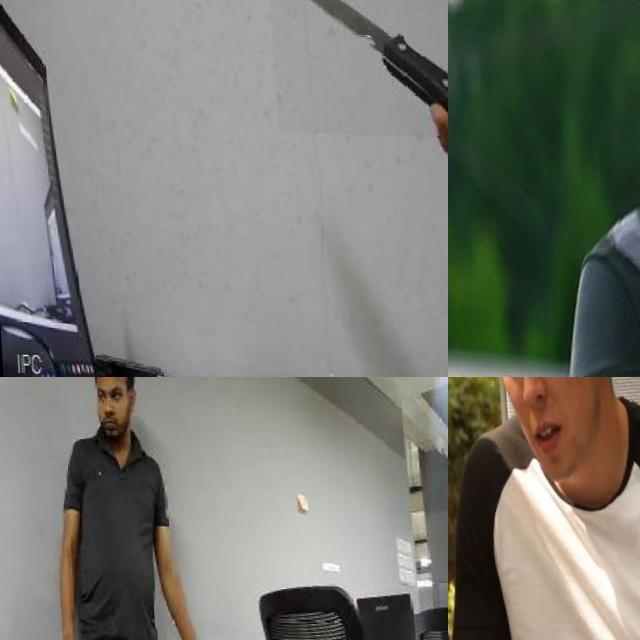-: (266, 0, 448, 135)
